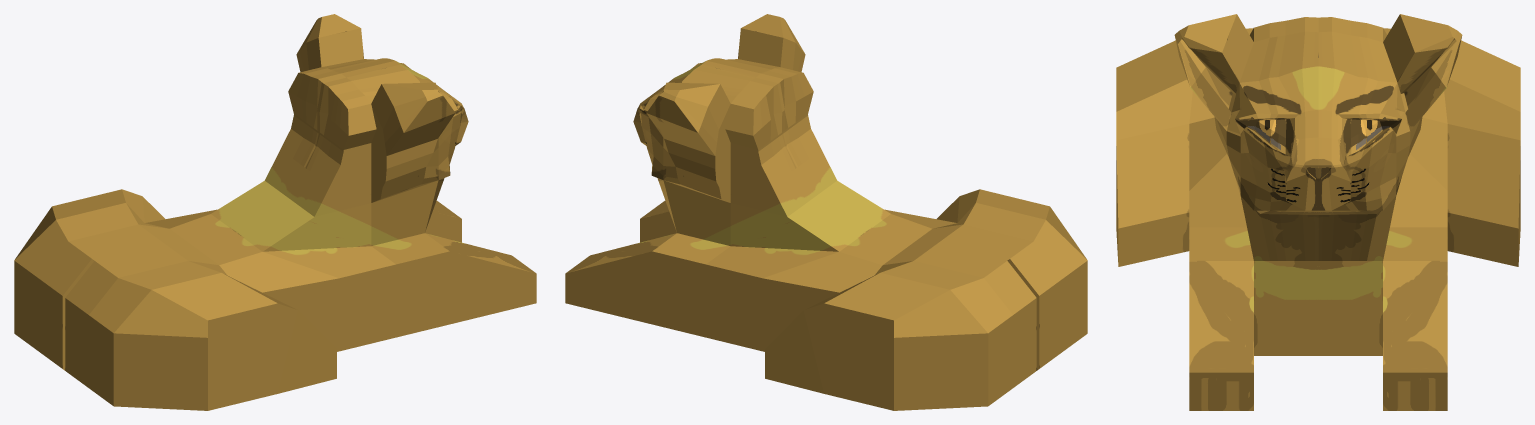
Rendered from gato.fbx.
3 views of the same model, side by side, from view 1: azimuth 30°, elevation 25°; view 2: azimuth 150°, elevation 25°; view 3: azimuth 270°, elevation 25° (orthographic). The views are drawn at different scales.
Visible parts, largest first — view 1: gato_LOD0; view 2: gato_LOD0; view 3: gato_LOD0.
Boxes of the visible parts, left/top/right/bottom form: gato_LOD0: left=14, top=14, right=536, bottom=410; gato_LOD0: left=565, top=14, right=1087, bottom=410; gato_LOD0: left=1116, top=14, right=1520, bottom=410.
Size of what is drawn, in the model's own units: 4.9 by 2.67 by 3.13.
1 material, 1 textured.
